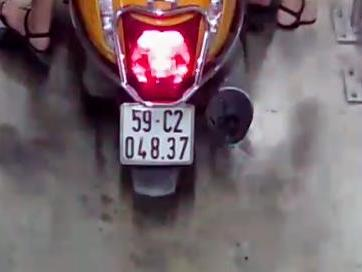num_plate: (119, 96, 196, 168)
